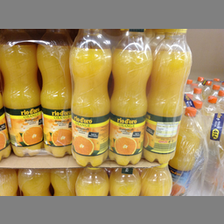juice: (144, 28, 191, 165), (69, 29, 113, 166), (110, 29, 153, 167), (1, 30, 42, 156), (37, 30, 73, 158)
